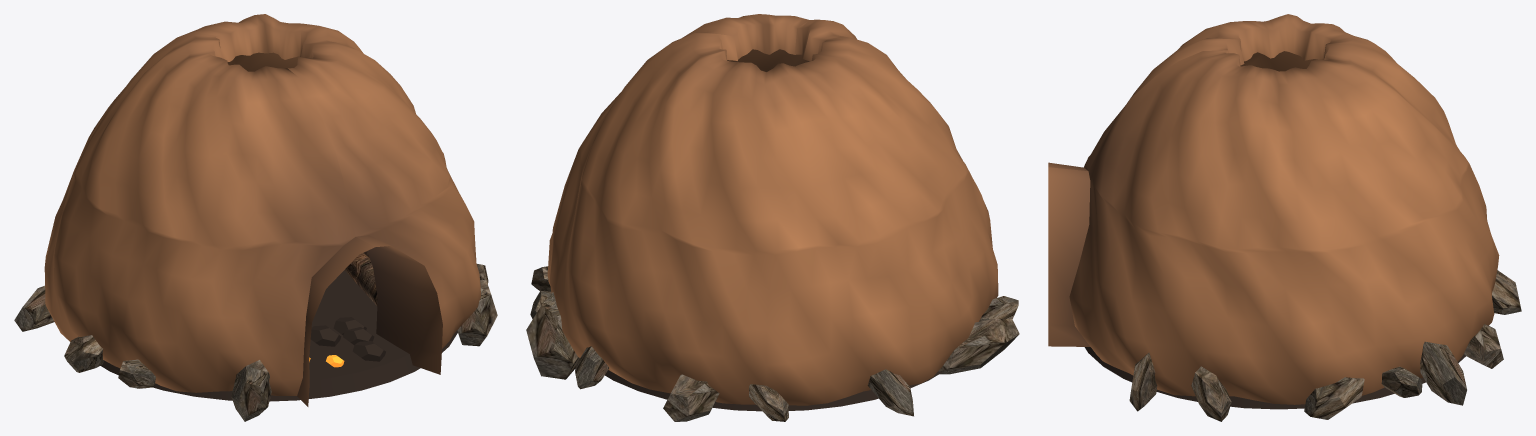
The model's file is furnace.glb.
3 views of the same model, side by side, from view 1: azimuth 30°, elevation 25°; view 2: azimuth 150°, elevation 25°; view 3: azimuth 270°, elevation 25° (orthographic). The views are drawn at different scales.
Visible parts, largest first — view 1: part_0, part_1, part_2, part_4; view 2: part_0, part_2, part_1; view 3: part_0, part_2, part_1.
Boxes of the visible parts, left/top/right/bottom form: part_0: left=44, top=14, right=480, bottom=406; part_1: left=100, top=270, right=457, bottom=401; part_2: left=14, top=264, right=497, bottom=421; part_4: left=344, top=251, right=377, bottom=305; part_0: left=547, top=14, right=998, bottom=405; part_2: left=526, top=266, right=1019, bottom=421; part_1: left=605, top=370, right=942, bottom=411; part_0: left=1048, top=14, right=1499, bottom=404; part_2: left=1129, top=270, right=1521, bottom=421; part_1: left=1084, top=347, right=1465, bottom=409.
Bounding box in the file's own units: 1.09 × 0.7251 × 1.06.
5 materials, 2 textured.
